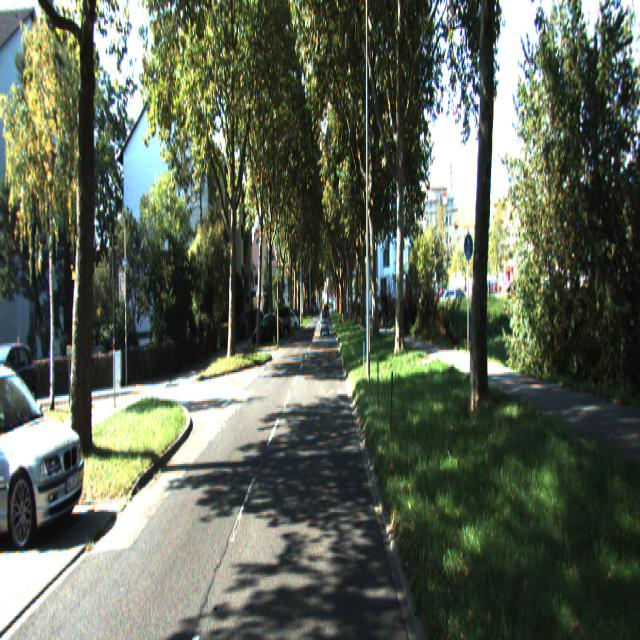Car: (0, 358, 93, 545), (254, 306, 281, 342)
